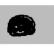correct: (7, 14, 37, 38)
